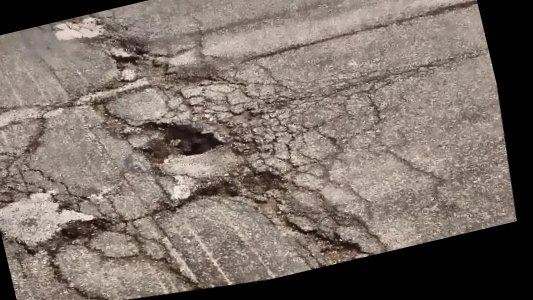pothole: (141, 103, 233, 173), (193, 156, 288, 211), (306, 224, 370, 269), (100, 28, 156, 77), (53, 210, 115, 253)
